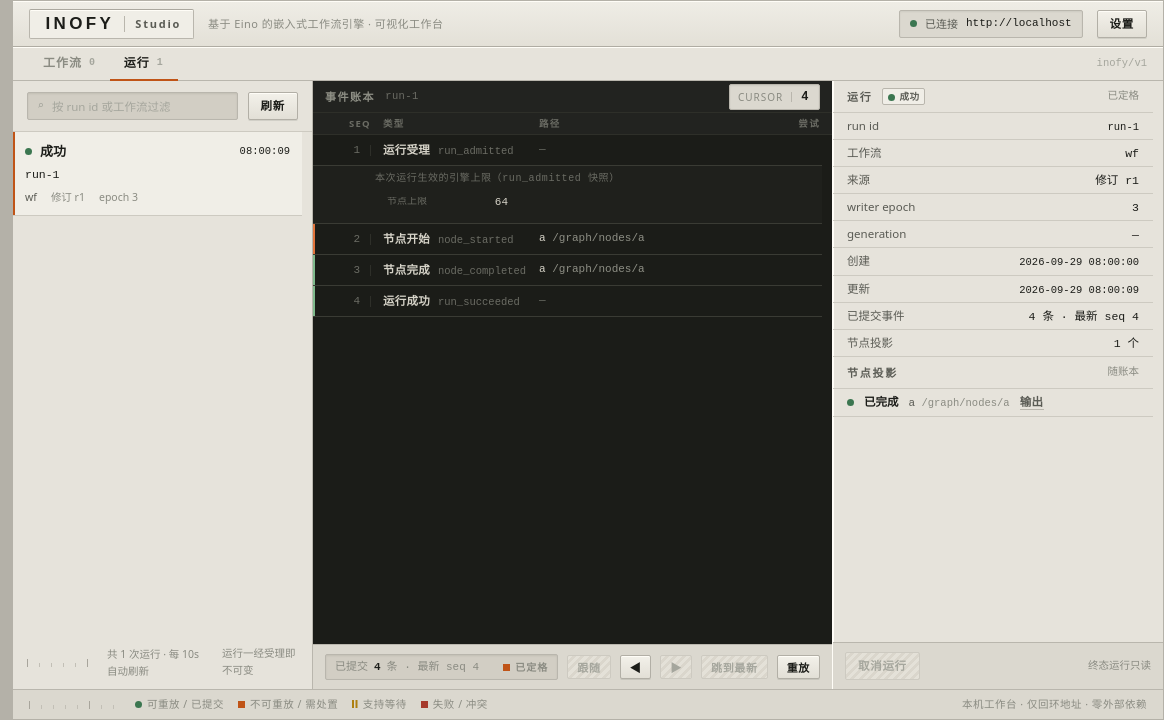
Test: 运行中心 › 终态运行已定格：不再订阅事件流
Expected: the element with class "live" reads "已定格", [515,660,548,674]
Expected: the element with class "limits" shows "节点上限", [387,196,427,207]
光标回看：只画到光标为止，之后的事件压暗。
Click the element showing "3 节点完成 node_completed a /graph/nodes/a" at (568, 270), box [313,255,822,286]
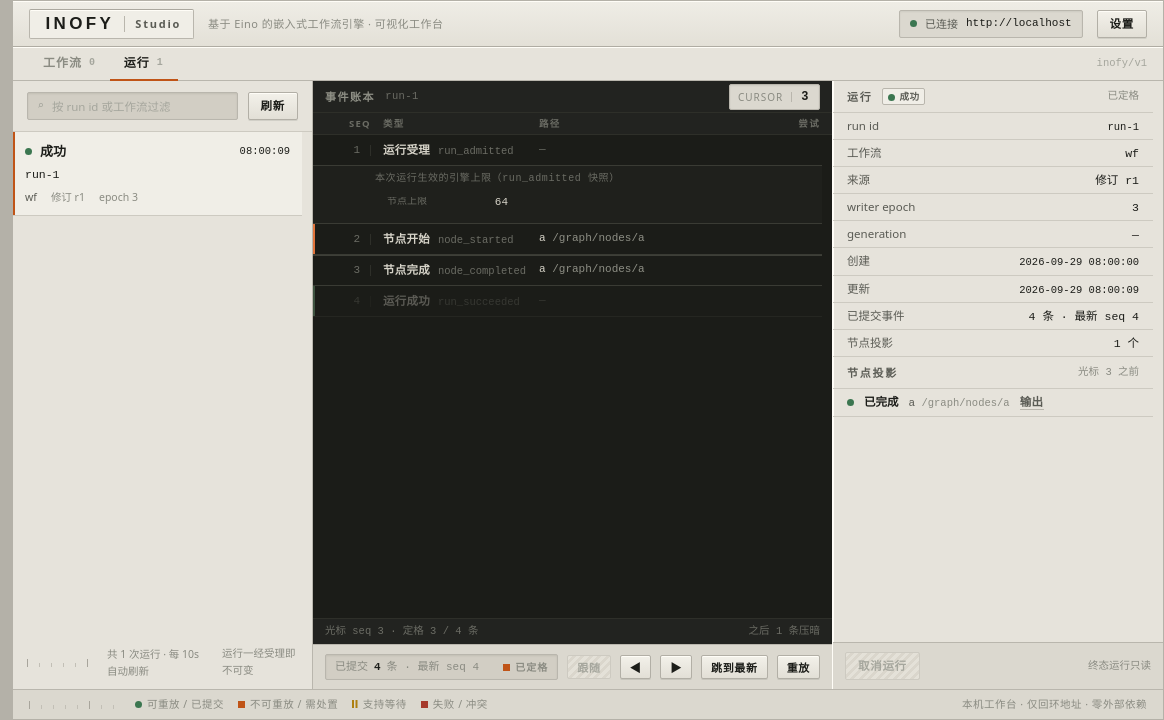
Expected: the number of elements with class "dim" is 1, [313,286,822,317]
Now the element with class "tail" shows "光标 seq 3", box [313,618,832,644]
Now the element with class "tail" shows "定格 3 / 4 条", box [313,618,832,644]
Click the button "跳到最新" at (734, 667), box [701,655,768,679]
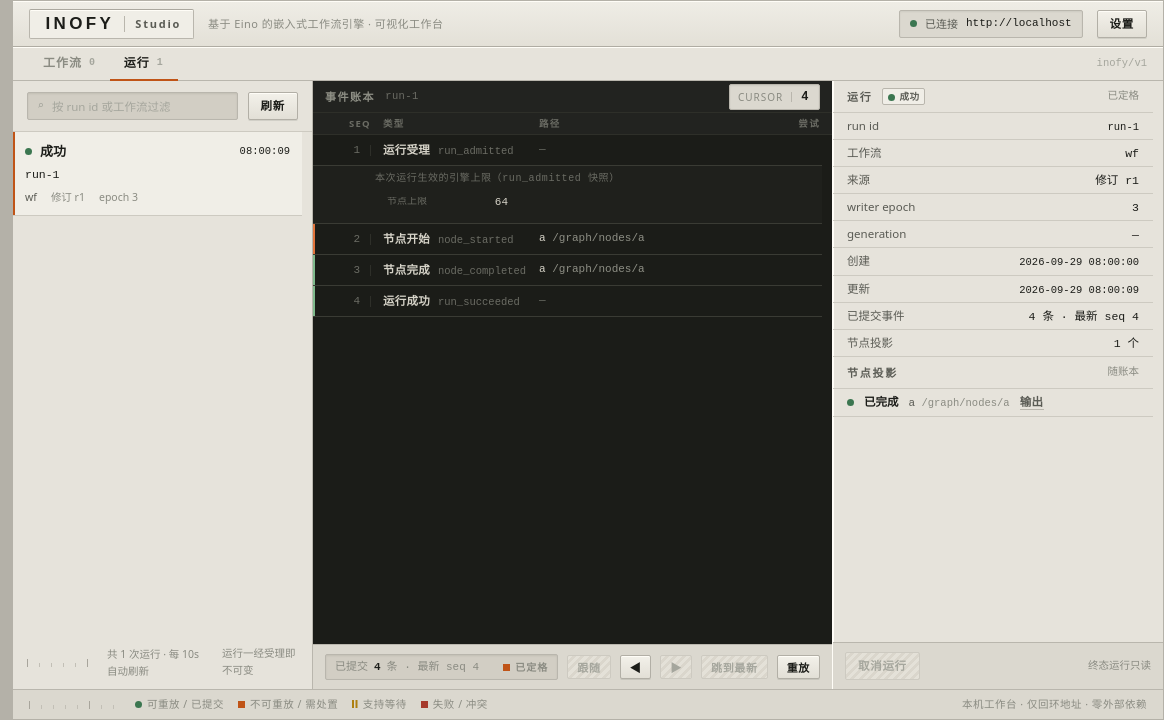
Now the element with class "tail" is gone
